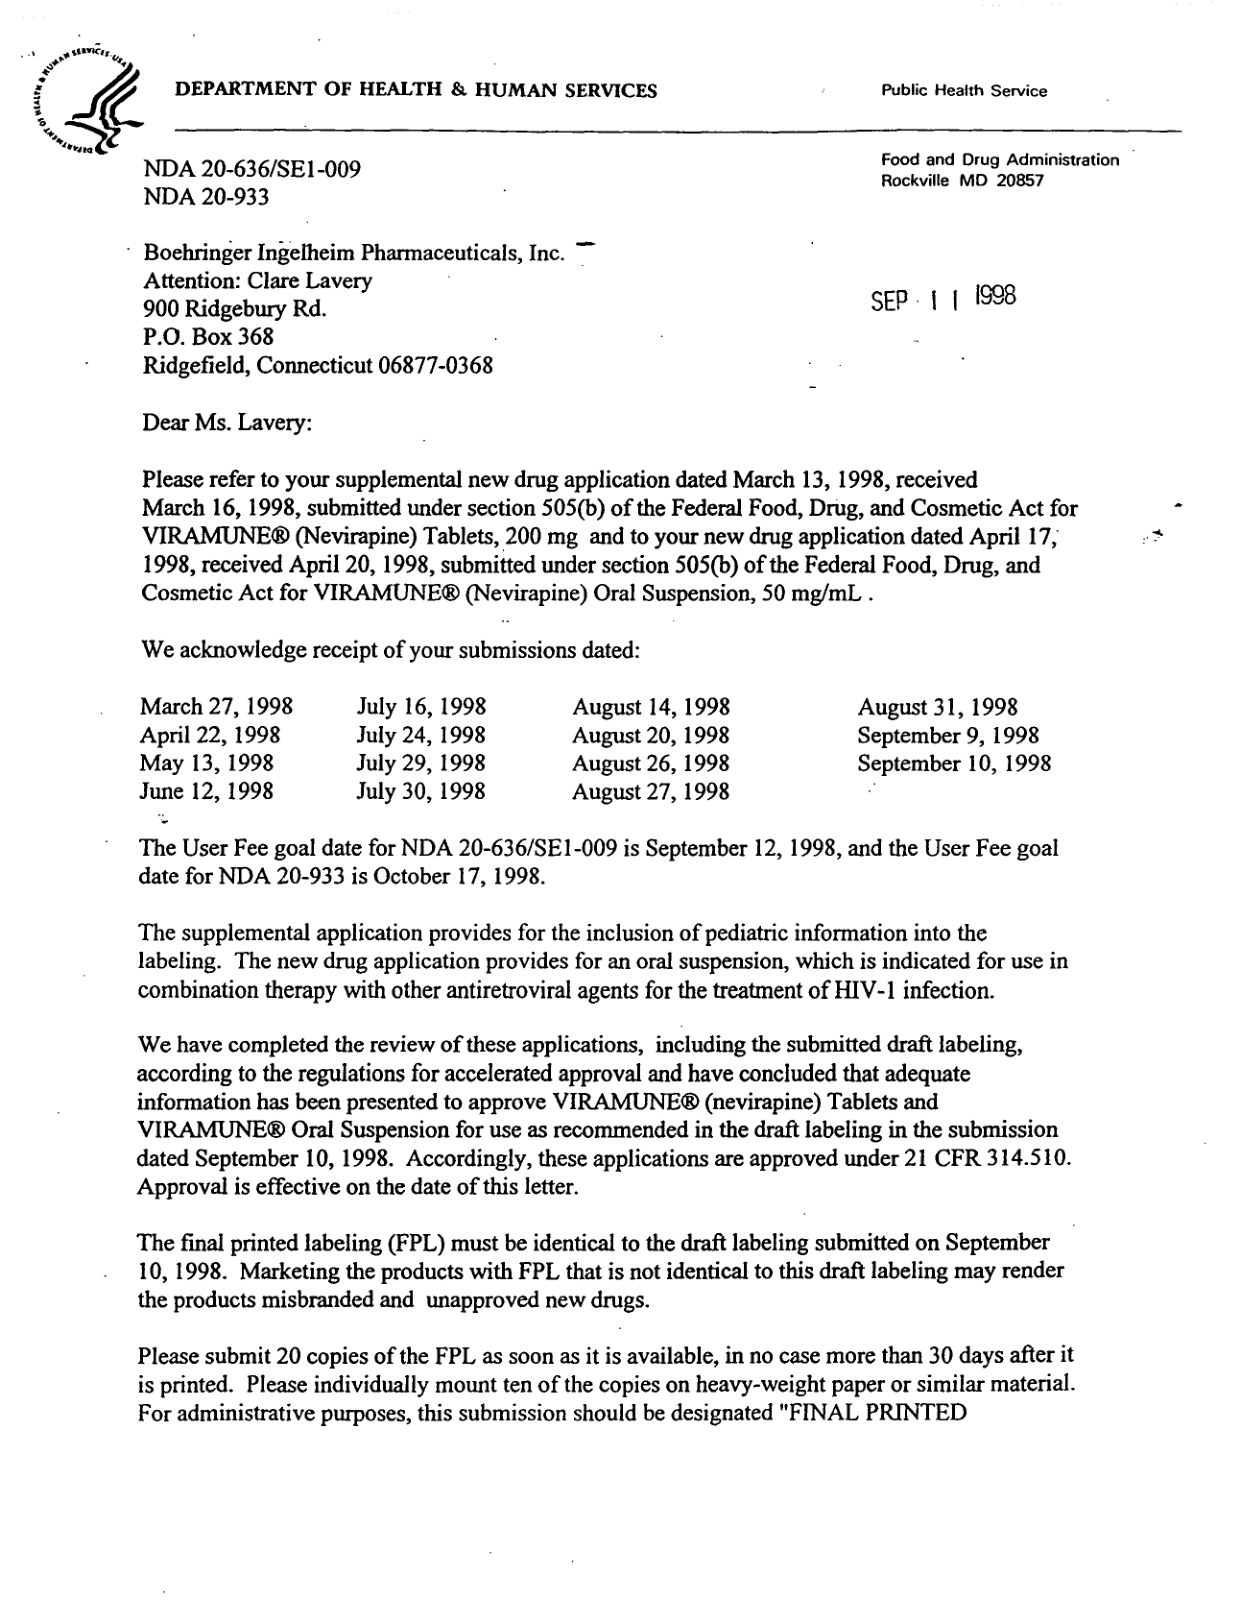nolines: (136, 690, 1051, 805)
